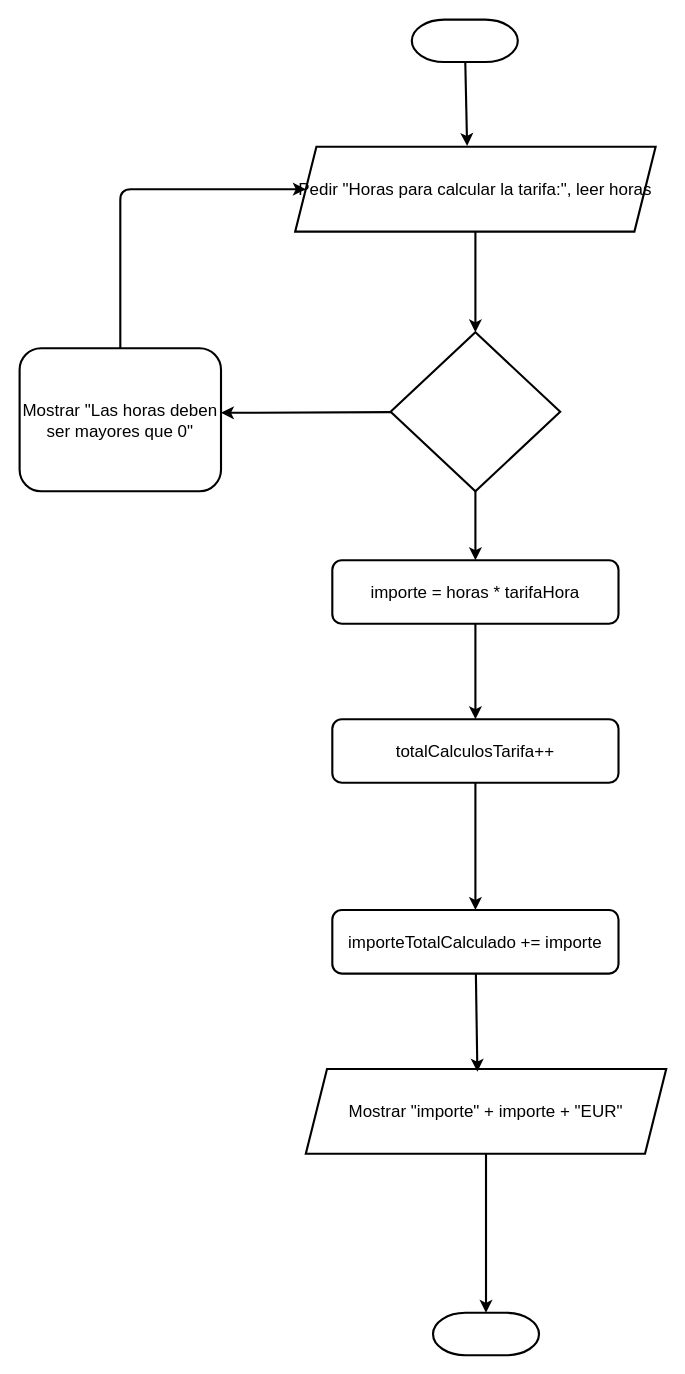
The diagram is 685 pixels wide and 1374 high, and some of its shapes have lost their labels. The box of each missing label's shape, as (x1, y1, x2, y2) in pixels:
Fin: (431, 1311, 540, 1356)
Inicio: (410, 18, 518, 63)
¿horas > 0?: (389, 331, 561, 492)
